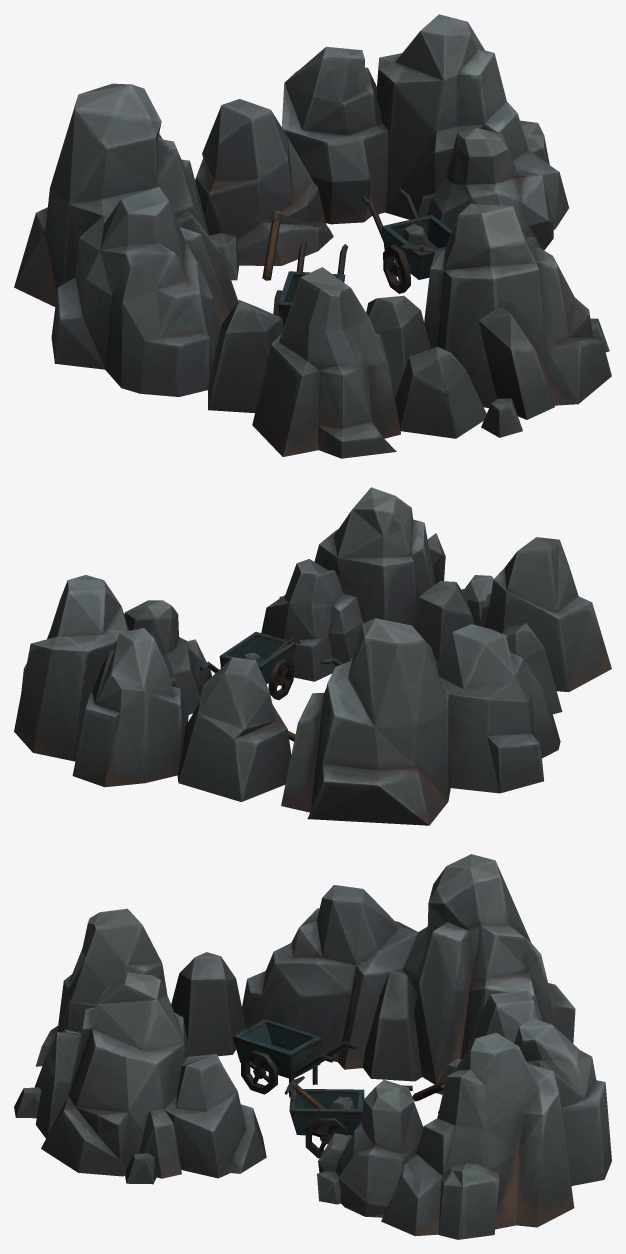
File: WMLimestone1.FBX
The picture shows the model from 3 angles, top to bottom: view 1: azimuth 30°, elevation 25°; view 2: azimuth 150°, elevation 25°; view 3: azimuth 270°, elevation 25°; orthographic projection. The views are drawn at different scales.
Parts seen in each view (by area): view 1: shihuiyanmeikuangchuang; view 2: shihuiyanmeikuangchuang; view 3: shihuiyanmeikuangchuang.
Boxes of the visible parts, x1=… form: shihuiyanmeikuangchuang: x1=14, y1=14, x2=611, y2=458; shihuiyanmeikuangchuang: x1=14, y1=487, x2=611, y2=825; shihuiyanmeikuangchuang: x1=14, y1=854, x2=611, y2=1239.
Size of the model in its own units: 1.45 by 0.5089 by 1.48.
1 material, 1 textured.
